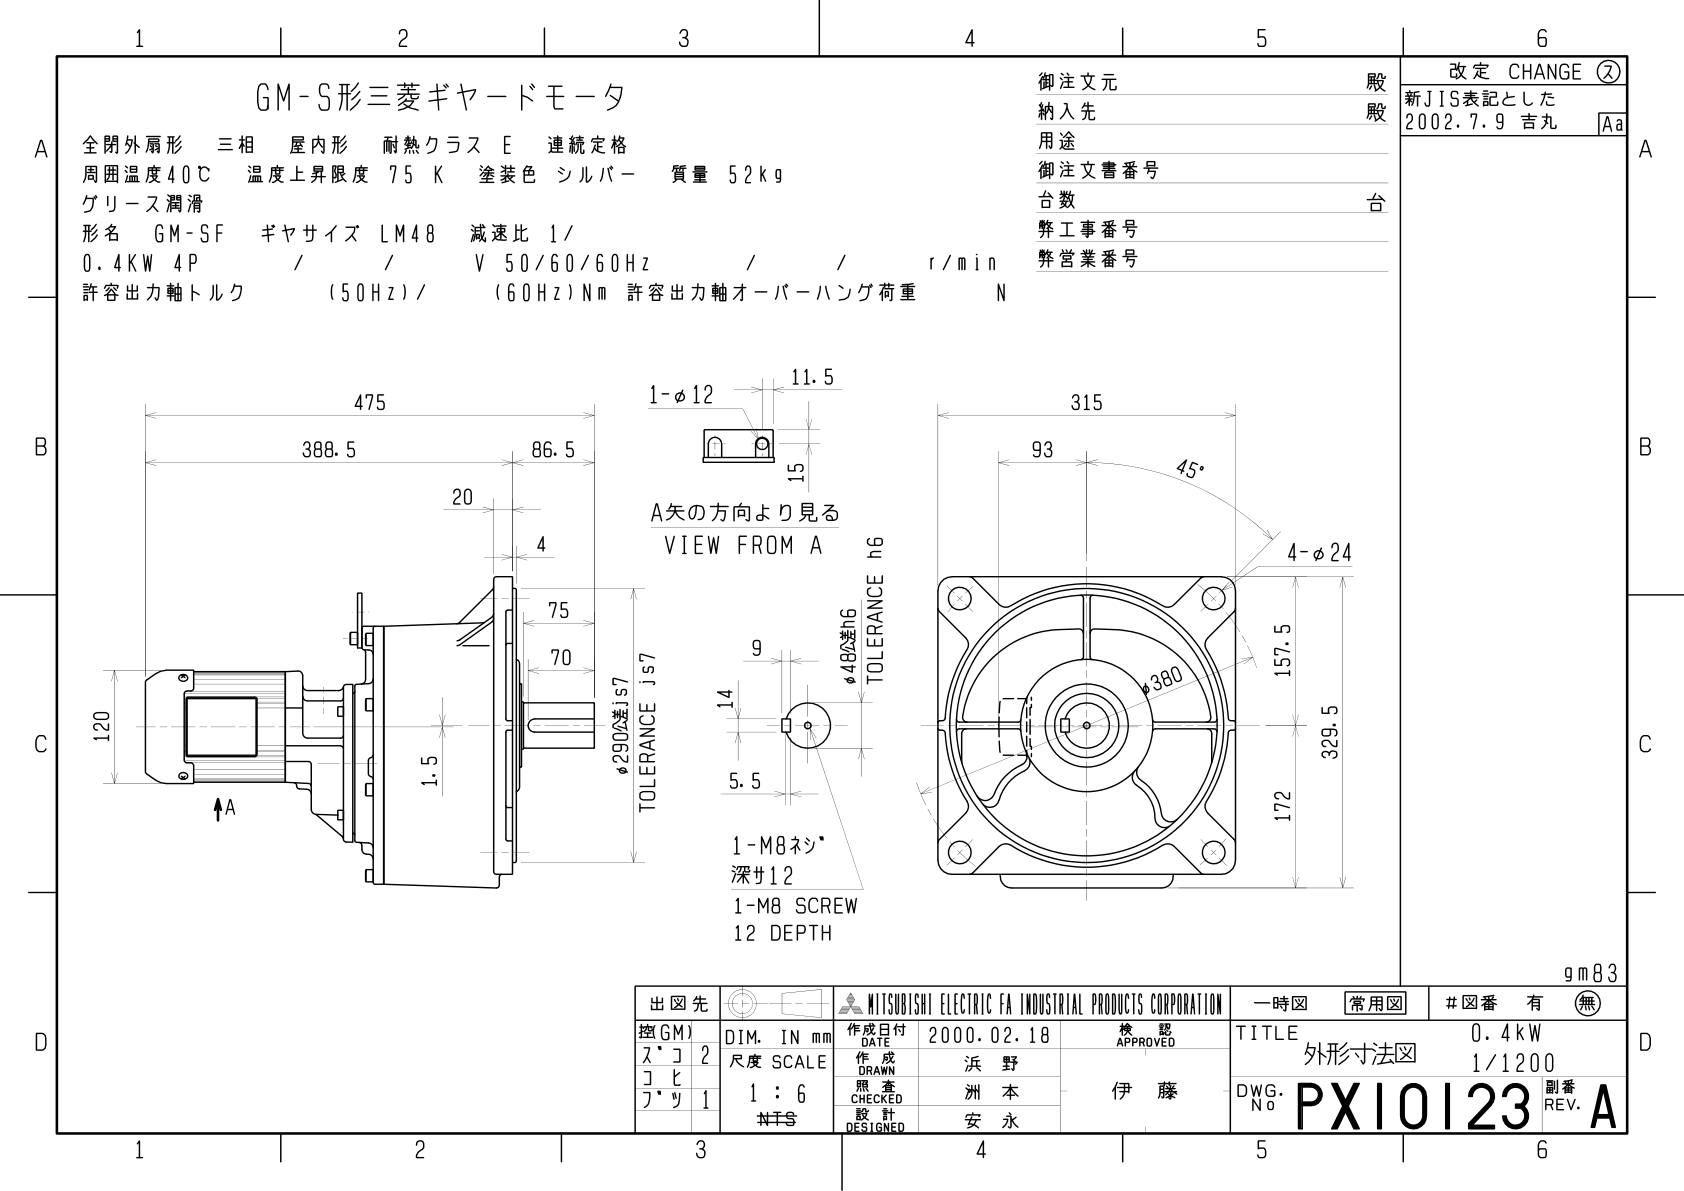GM_S_屋内＿三相_フランジ: (77, 320, 1375, 953)
